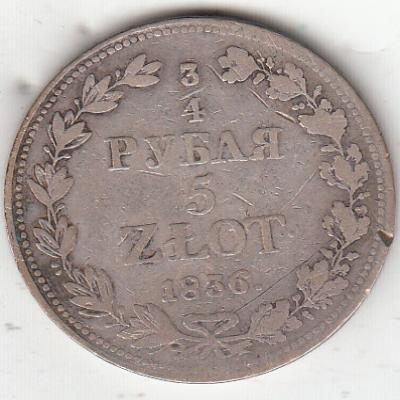numismatics: (4, 13, 396, 386)
